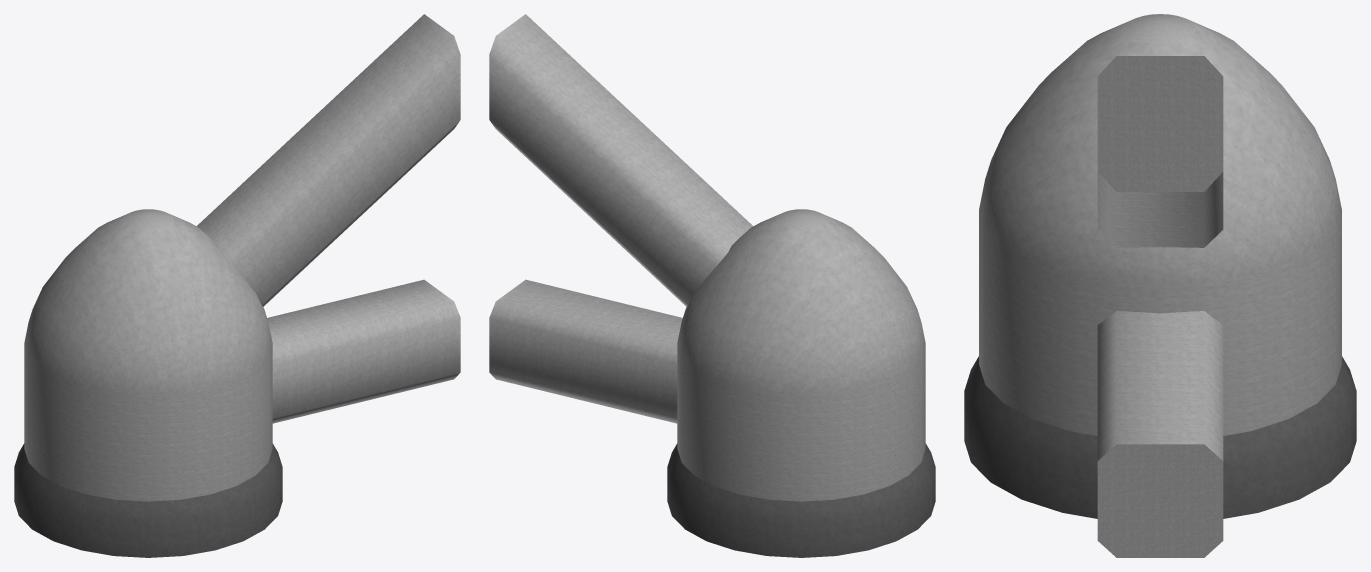
The model's file is radial-adapter1.fbx.
3 renders of one model, left to right at view 1: azimuth 30°, elevation 25°; view 2: azimuth 150°, elevation 25°; view 3: azimuth 270°, elevation 25°, orthographic. The views are drawn at different scales.
Visible parts, largest first — view 1: radial-adapter-s1-1-mk2, fixing-bar_002, fixing-bar_001; view 2: radial-adapter-s1-1-mk2, fixing-bar_002, fixing-bar_001; view 3: radial-adapter-s1-1-mk2, fixing-bar_001, fixing-bar_002.
Part boxes in pixels (box(x1,y1,x2,y2)): radial-adapter-s1-1-mk2: box(14, 209, 282, 557); fixing-bar_002: box(196, 14, 460, 306); fixing-bar_001: box(267, 279, 460, 423); radial-adapter-s1-1-mk2: box(667, 209, 935, 557); fixing-bar_002: box(489, 14, 753, 306); fixing-bar_001: box(489, 279, 682, 423); radial-adapter-s1-1-mk2: box(964, 14, 1356, 518); fixing-bar_001: box(1097, 311, 1223, 557); fixing-bar_002: box(1097, 56, 1223, 247).
Size of what is drawn, in the model's own units: 2.19 by 2.08 by 1.25.
Materials: 1 (1 with a texture image).
